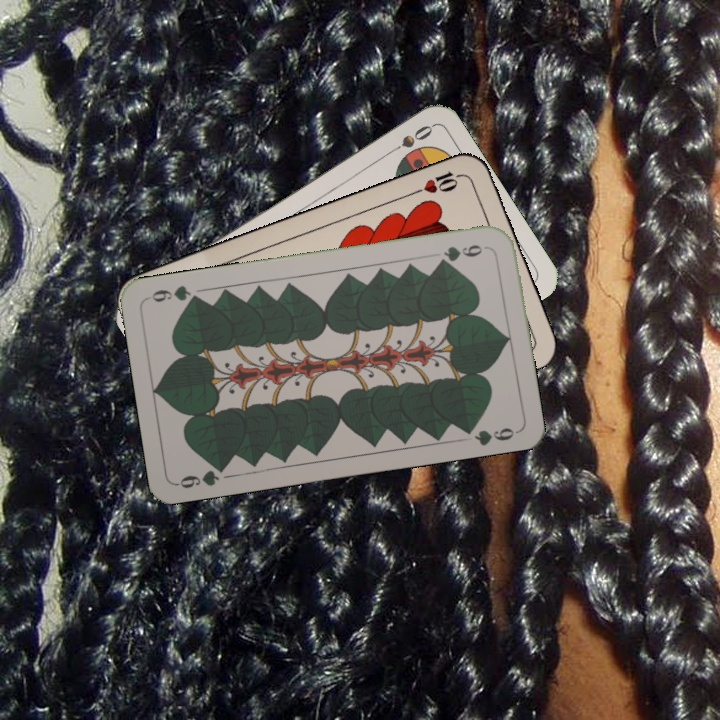G9: (173, 460, 230, 491), (434, 240, 491, 266)
H10: (410, 166, 467, 197)
SO: (381, 120, 436, 159)
